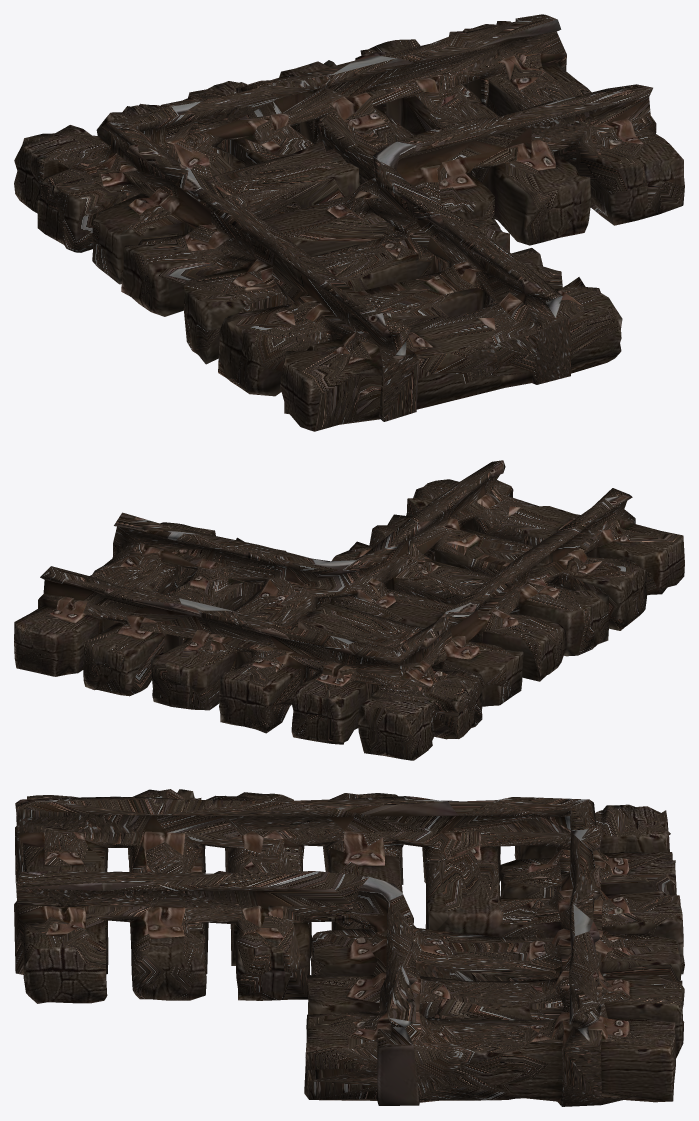
File: railroad_track_02.glb
3 views of the same model, one above another, from view 1: azimuth 30°, elevation 25°; view 2: azimuth 150°, elevation 25°; view 3: azimuth 270°, elevation 25° (orthographic). The views are drawn at different scales.
Visible parts, largest first — view 1: tripo_node_d0860547-549d-4793-a709-c6814f7137b1; view 2: tripo_node_d0860547-549d-4793-a709-c6814f7137b1; view 3: tripo_node_d0860547-549d-4793-a709-c6814f7137b1.
Part boxes in pixels (x1=…): tripo_node_d0860547-549d-4793-a709-c6814f7137b1: x1=14, y1=14, x2=684, y2=431; tripo_node_d0860547-549d-4793-a709-c6814f7137b1: x1=14, y1=460, x2=684, y2=760; tripo_node_d0860547-549d-4793-a709-c6814f7137b1: x1=14, y1=789, x2=684, y2=1106.
Size of the model in its own units: 0.8972 by 0.1548 by 0.9805.
Materials: 1 (1 with a texture image).
